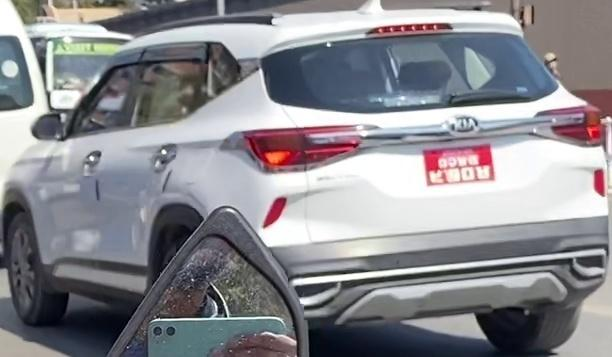license-plate: (411, 140, 504, 189)
